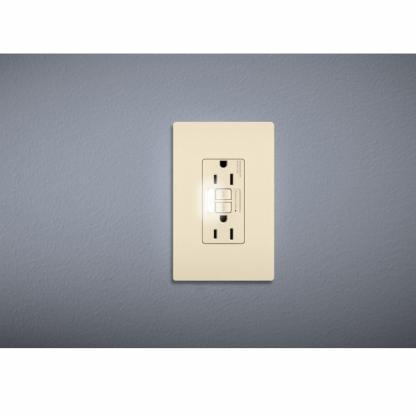OUTLET: (171, 122, 274, 282)
